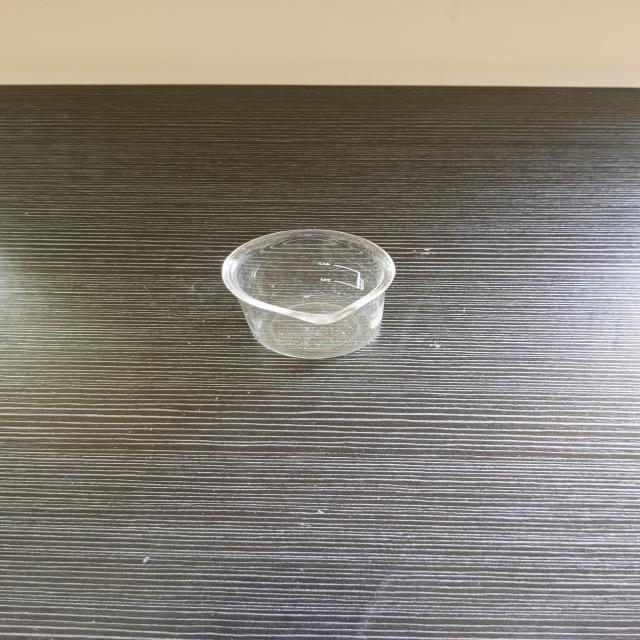beaker: (216, 224, 400, 366)
